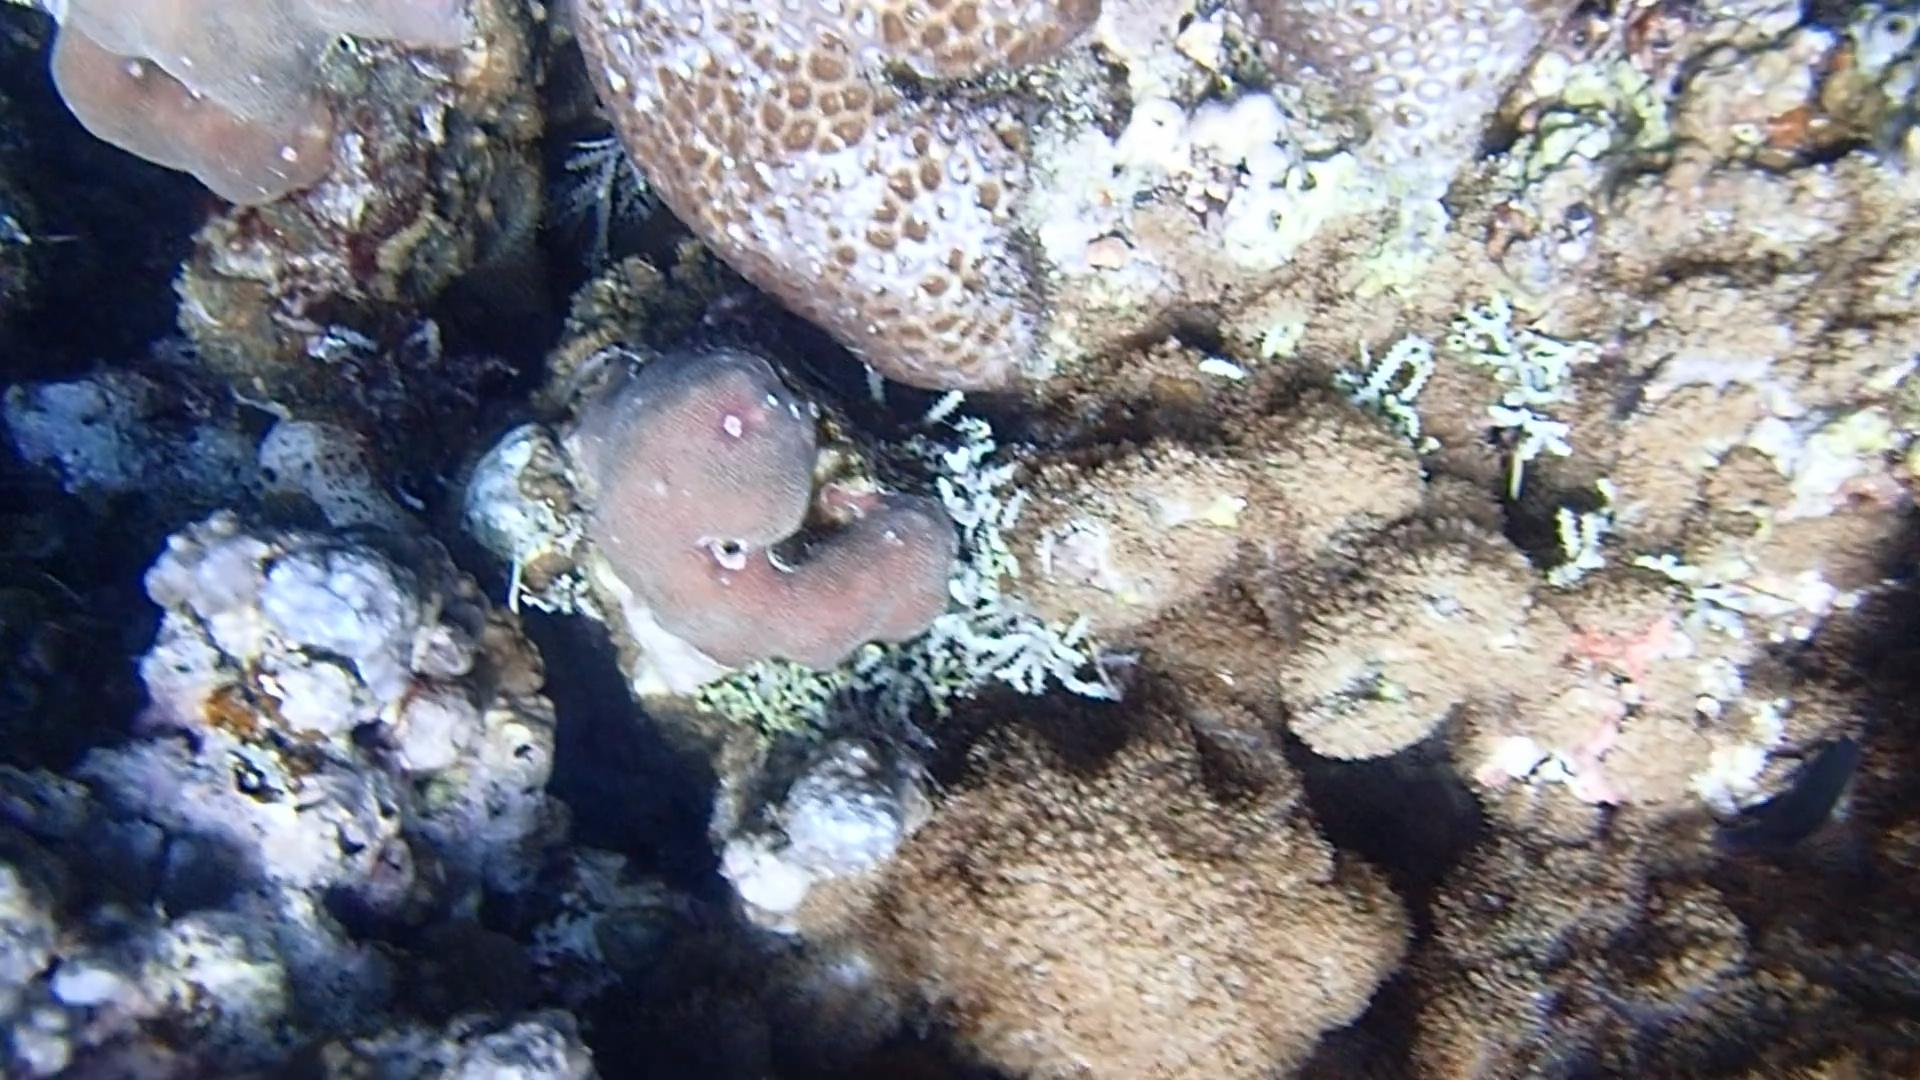Dark Fish: (1726, 731, 1875, 865)
